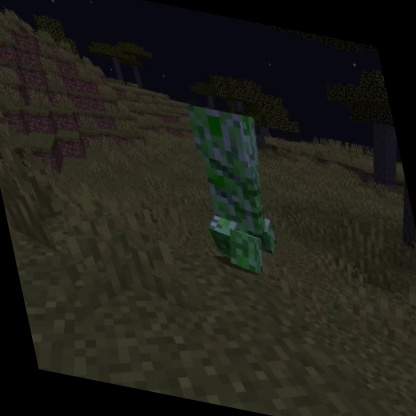creeper: (178, 99, 293, 283)
